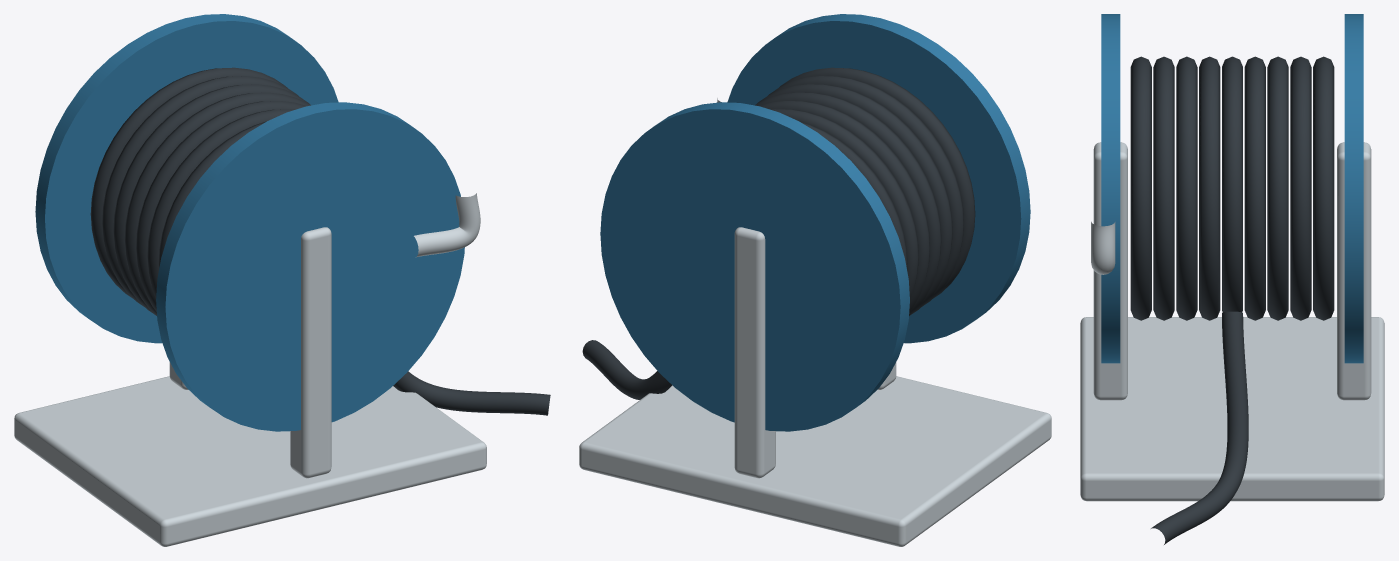
File: curling-club-and-ice-maintenance-hose-reel-2ab13a7a__31300.glb
3 renders of one model, left to right at view 1: azimuth 30°, elevation 25°; view 2: azimuth 150°, elevation 25°; view 3: azimuth 270°, elevation 25°, orthographic.
Visible parts, largest first — view 1: hose-reel; view 2: hose-reel; view 3: hose-reel.
Part boxes in pixels (<box>): hose-reel: <box>14,14,550,546</box>; hose-reel: <box>579,14,1051,546</box>; hose-reel: <box>1080,14,1384,544</box>.
Bounding box in the file's own units: 0.6578 × 0.57 × 0.4.
